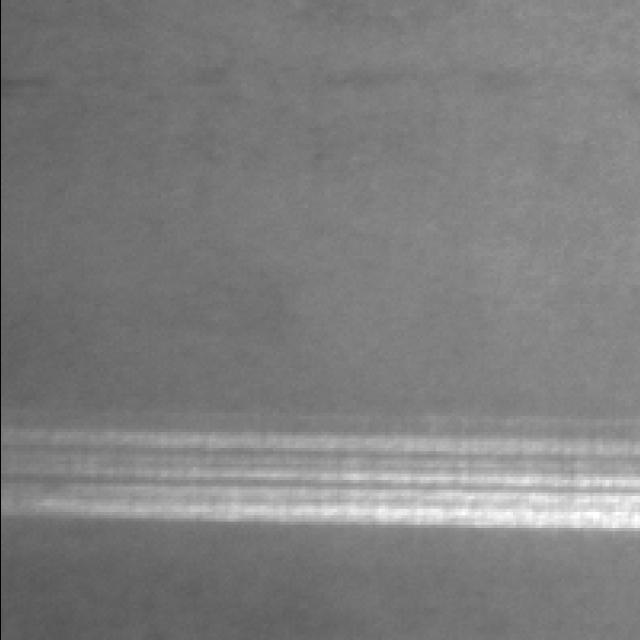scratches: (0, 417, 640, 526)
